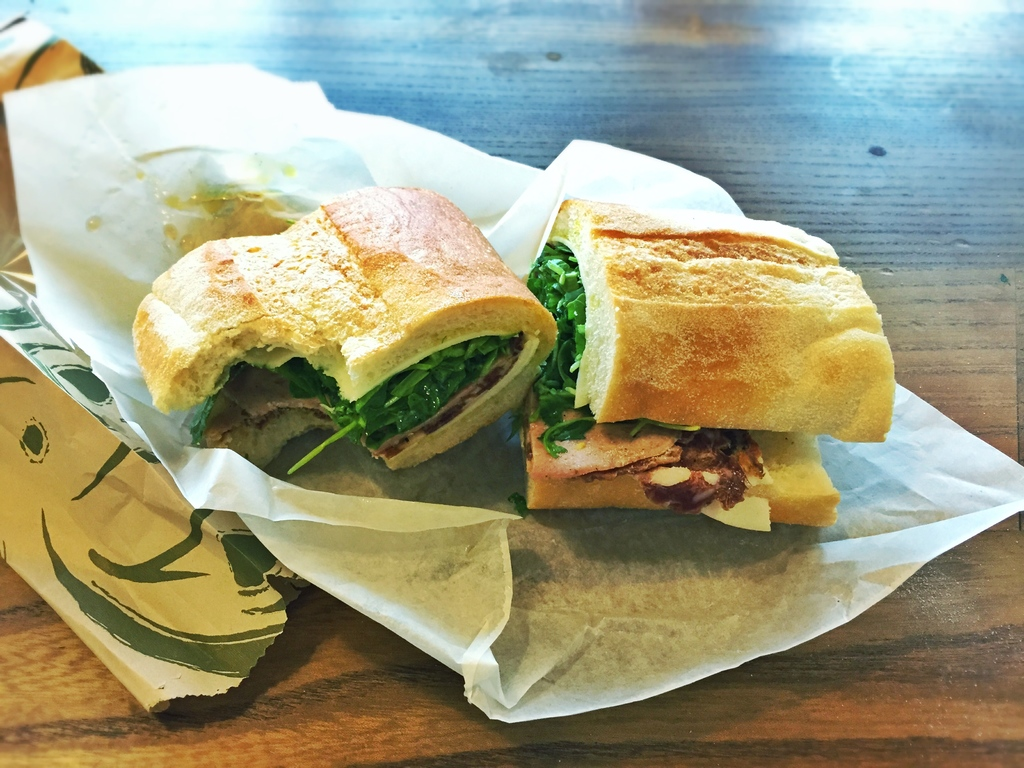Hamburger: (512, 194, 890, 531), (129, 187, 559, 464)
